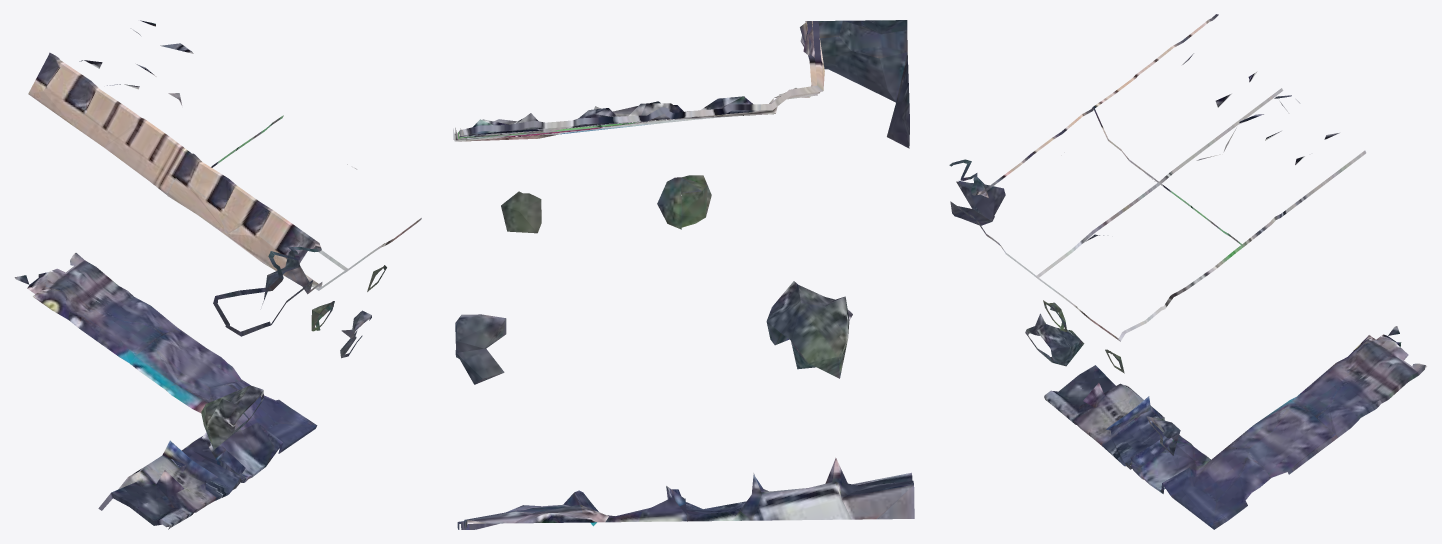
The picture shows the model from 3 angles, left to right: view 1: azimuth 30°, elevation 25°; view 2: azimuth 150°, elevation 25°; view 3: azimuth 270°, elevation 25°; orthographic projection. The views are drawn at different scales.
Bounding box in the file's own units: 40.06 × 50.24 × 55.31.
Materials: 2 (2 with a texture image).
